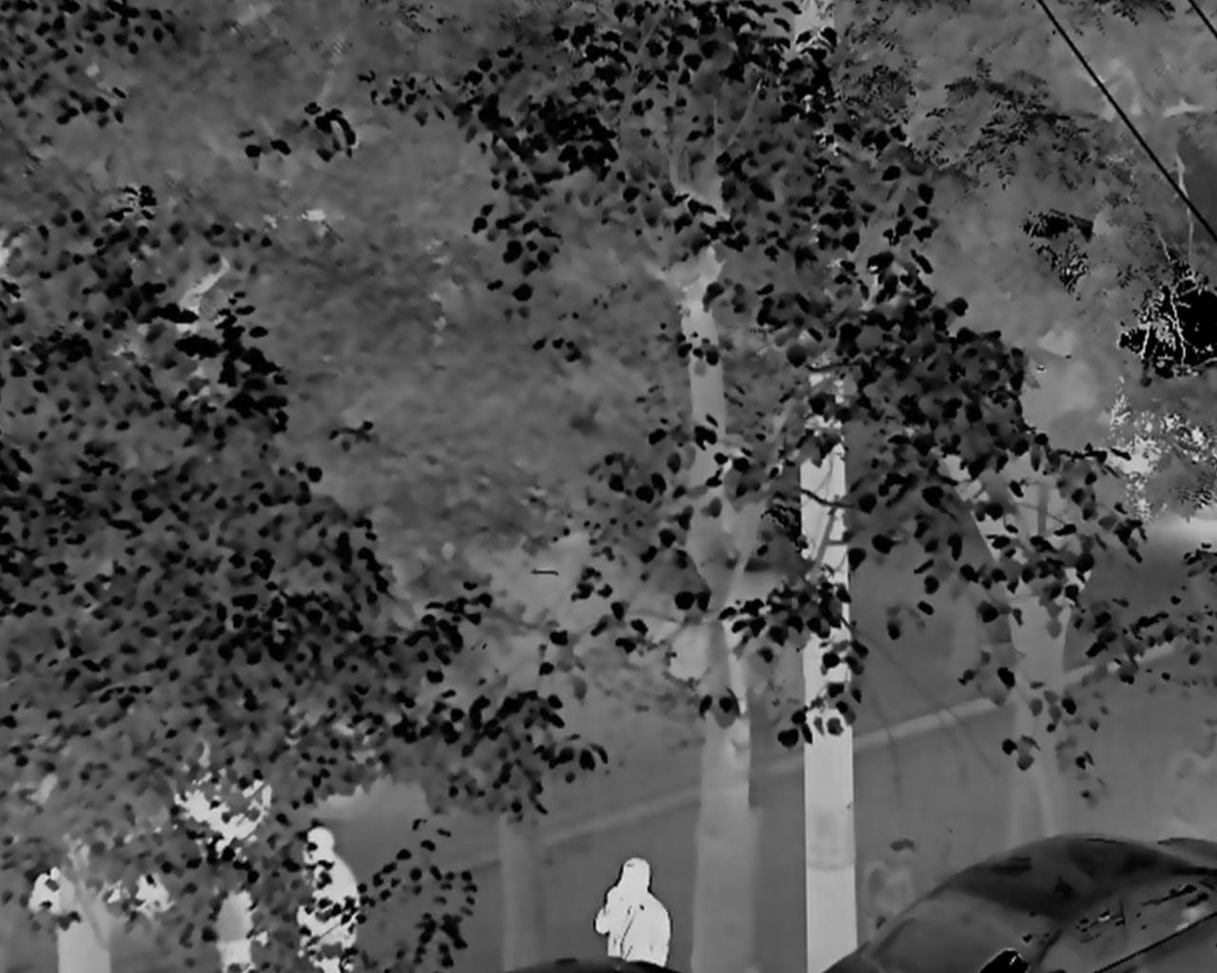person: (296, 830, 362, 971), (591, 854, 673, 966)
